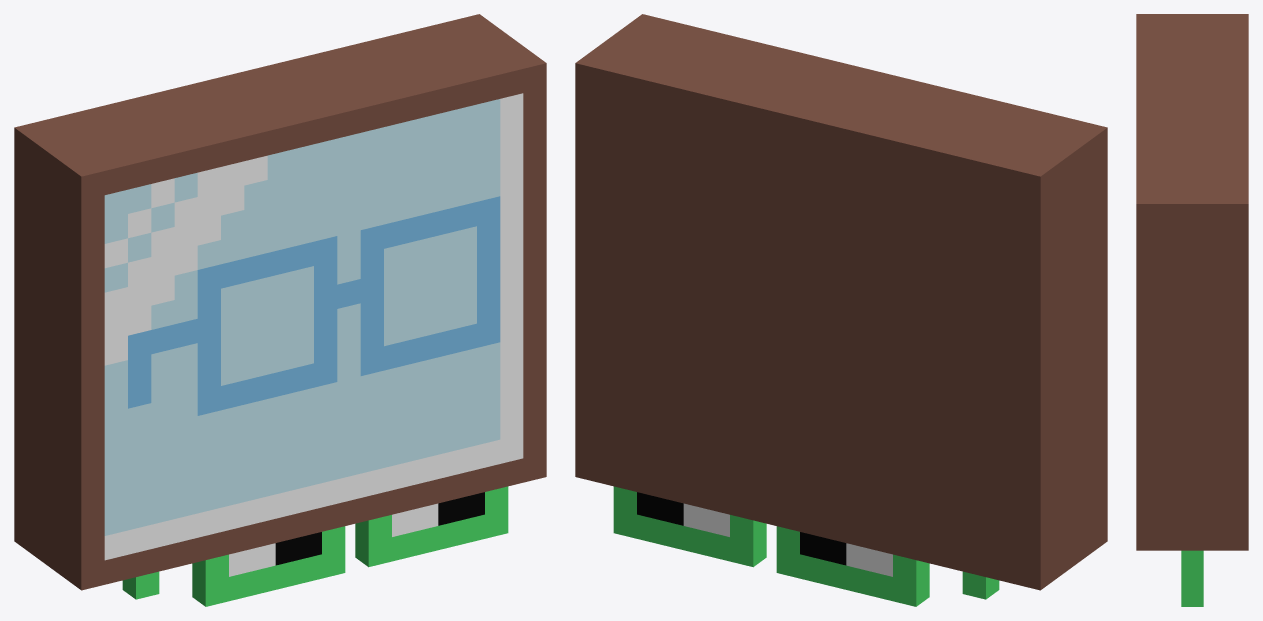
Rendered from mirror.glb.
3 views of the same model, side by side, from view 1: azimuth 30°, elevation 25°; view 2: azimuth 150°, elevation 25°; view 3: azimuth 270°, elevation 25° (orthographic). The views are drawn at different scales.
Parts seen in each view (by area): view 1: glass, Base, glasses, layer-2; view 2: Base, glasses, layer-2; view 3: Base, glasses.
Boxes of the visible parts, bbox=[...] form: glass: bbox=[104, 93, 523, 560]; Base: bbox=[14, 14, 546, 590]; glasses: bbox=[122, 486, 508, 606]; layer-2: bbox=[229, 492, 484, 576]; Base: bbox=[575, 14, 1107, 590]; glasses: bbox=[613, 486, 999, 606]; layer-2: bbox=[637, 492, 892, 576]; Base: bbox=[1136, 14, 1248, 550]; glasses: bbox=[1181, 550, 1203, 606].
Bounding box in the file's own units: 20 × 20 × 5.
8 materials, 8 textured.
